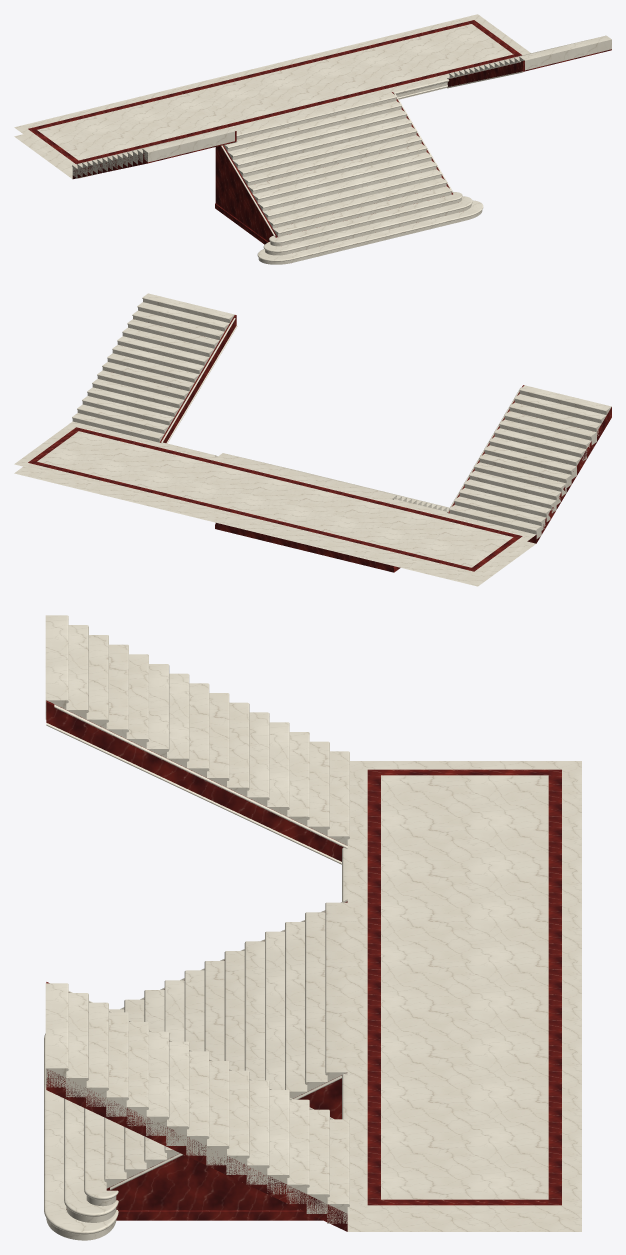
Rendered from escalier.glb.
3 renders of one model, top to bottom at view 1: azimuth 30°, elevation 25°; view 2: azimuth 150°, elevation 25°; view 3: azimuth 270°, elevation 25°, orthographic. The views are drawn at different scales.
Parts seen in each view (by area): view 1: Escalier_Volees, Escalier_Palier; view 2: Escalier_Palier, Escalier_Volees; view 3: Escalier_Volees, Escalier_Palier.
Part boxes in pixels (<box>): Escalier_Volees: <box>72,35,611,264</box>; Escalier_Palier: <box>14,14,530,178</box>; Escalier_Palier: <box>14,421,535,586</box>; Escalier_Volees: <box>72,293,611,572</box>; Escalier_Volees: <box>44,615,349,1240</box>; Escalier_Palier: <box>347,761,581,1231</box>.
Bounding box in the file's own units: 16 × 4.8 × 8.03.
Materials: 2 (2 with a texture image).
